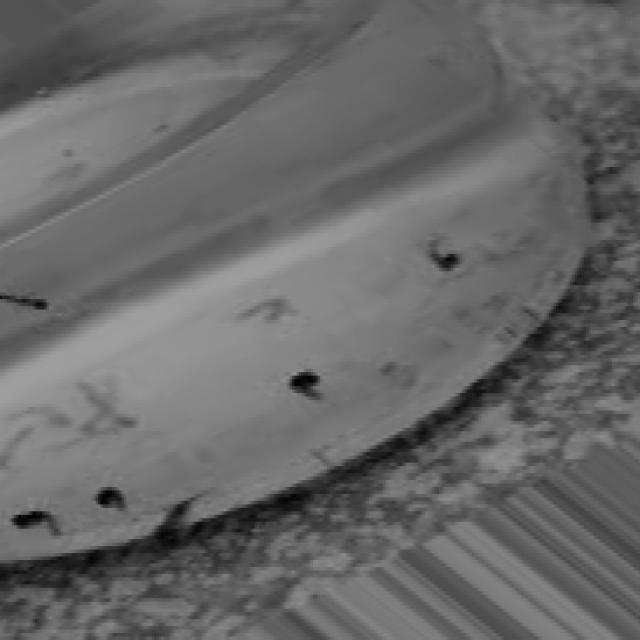larvas: (81, 386, 137, 432), (9, 402, 67, 428), (164, 500, 208, 532), (242, 295, 286, 324), (10, 512, 60, 536), (2, 287, 50, 311), (288, 365, 320, 399), (426, 242, 460, 272), (97, 489, 124, 515)
